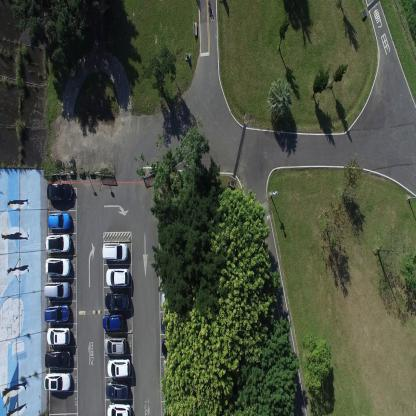car: (46, 182, 74, 204), (44, 232, 72, 253), (44, 349, 72, 369), (44, 372, 72, 392), (106, 357, 131, 379), (44, 302, 70, 323), (44, 257, 71, 277), (102, 242, 128, 262), (104, 290, 130, 310), (46, 326, 70, 347), (161, 336, 186, 356), (160, 314, 185, 334), (46, 211, 72, 230), (106, 267, 130, 287), (103, 336, 127, 356), (162, 358, 186, 378), (104, 380, 128, 400), (44, 280, 70, 298), (102, 312, 125, 332), (160, 292, 184, 311), (106, 401, 131, 415)
